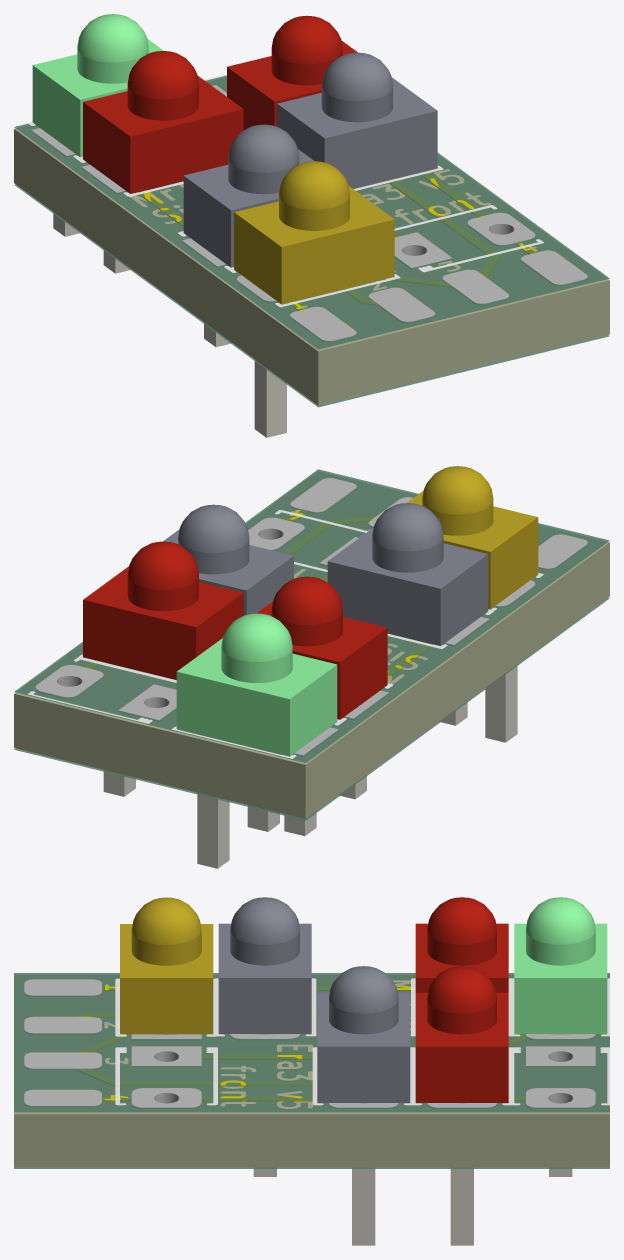
File: MrJ-DB-Era3-prod-exit-Hp1.glb
3 views of the same model, one above another, from view 1: azimuth 30°, elevation 25°; view 2: azimuth 150°, elevation 25°; view 3: azimuth 270°, elevation 25° (orthographic). The views are drawn at different scales.
Visible parts, largest first — view 1: =>[0:1:1:15], =>[0:1:1:3] (×2), =>[0:1:1:9] (×2), =>[0:1:1:13], =>[0:1:1:7], =>[0:1:1:11], =>[0:1:1:5], =>[0:1:1:10], =>[0:1:1:12], =>[0:1:1:14]; view 2: =>[0:1:1:15], =>[0:1:1:3] (×2), =>[0:1:1:9] (×2), =>[0:1:1:5], =>[0:1:1:13], =>[0:1:1:7], =>[0:1:1:11], =>[0:1:1:12], =>[0:1:1:14], =>[0:1:1:10]; view 3: =>[0:1:1:15], =>[0:1:1:13], =>[0:1:1:9] (×2), =>[0:1:1:3] (×2), =>[0:1:1:11], =>[0:1:1:5], =>[0:1:1:7], =>[0:1:1:12], =>[0:1:1:10], =>[0:1:1:14].
Boxes of the visible parts, x1=… form: =>[0:1:1:15]: x1=14, y1=77, x2=609, y2=405; =>[0:1:1:3] (×2): x1=83, y1=15, x2=357, y2=273; =>[0:1:1:9] (×2): x1=183, y1=52, x2=437, y2=347; =>[0:1:1:13]: x1=14, y1=75, x2=609, y2=349; =>[0:1:1:7]: x1=234, y1=161, x2=394, y2=437; =>[0:1:1:11]: x1=31, y1=85, x2=587, y2=341; =>[0:1:1:5]: x1=32, y1=14, x2=163, y2=236; =>[0:1:1:10]: x1=140, y1=173, x2=537, y2=310; =>[0:1:1:12]: x1=27, y1=74, x2=543, y2=307; =>[0:1:1:14]: x1=14, y1=184, x2=609, y2=407; =>[0:1:1:15]: x1=14, y1=471, x2=609, y2=818; =>[0:1:1:3] (×2): x1=83, y1=541, x2=387, y2=831; =>[0:1:1:9] (×2): x1=163, y1=503, x2=488, y2=725; =>[0:1:1:5]: x1=176, y1=613, x2=337, y2=868; =>[0:1:1:13]: x1=14, y1=469, x2=609, y2=762; =>[0:1:1:7]: x1=407, y1=466, x2=538, y2=742; =>[0:1:1:11]: x1=35, y1=478, x2=587, y2=756; =>[0:1:1:12]: x1=28, y1=510, x2=543, y2=758; =>[0:1:1:14]: x1=14, y1=598, x2=609, y2=820; =>[0:1:1:10]: x1=84, y1=509, x2=538, y2=678; =>[0:1:1:15]: x1=14, y1=975, x2=609, y2=1167; =>[0:1:1:13]: x1=14, y1=973, x2=609, y2=1112; =>[0:1:1:9] (×2): x1=218, y1=897, x2=410, y2=1245; =>[0:1:1:3] (×2): x1=415, y1=897, x2=508, y2=1245; =>[0:1:1:11]: x1=24, y1=979, x2=595, y2=1108; =>[0:1:1:5]: x1=514, y1=897, x2=607, y2=1176; =>[0:1:1:7]: x1=120, y1=897, x2=213, y2=1034; =>[0:1:1:12]: x1=115, y1=978, x2=609, y2=1105; =>[0:1:1:10]: x1=76, y1=986, x2=528, y2=1101; =>[0:1:1:14]: x1=14, y1=1167, x2=609, y2=1168.
Bounding box in the file's own units: 0.00851 × 0.0071 × 0.0154.
